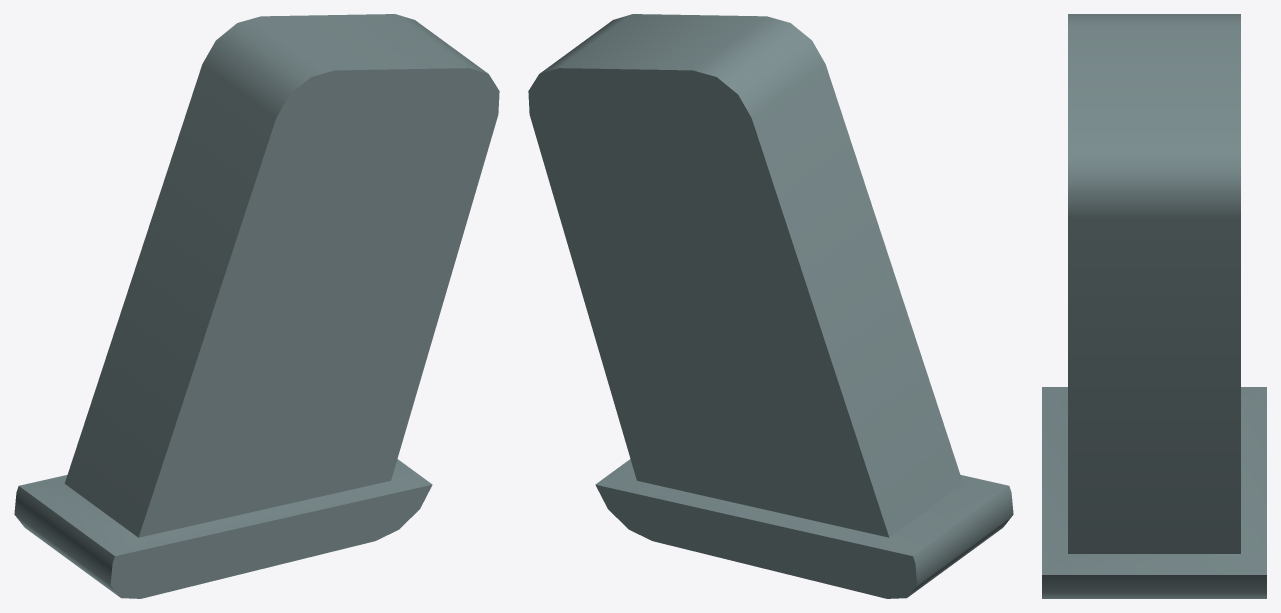
File: Clip.fbx
The picture shows the model from 3 angles, left to right: view 1: azimuth 30°, elevation 25°; view 2: azimuth 150°, elevation 25°; view 3: azimuth 270°, elevation 25°; orthographic projection. The views are drawn at different scales.
Visible parts, largest first — view 1: Clip; view 2: Clip; view 3: Clip.
Boxes of the visible parts, left/top/right/bottom form: Clip: left=14, top=14, right=499, bottom=598; Clip: left=528, top=14, right=1013, bottom=598; Clip: left=1042, top=14, right=1266, bottom=598.
Bounding box in the file's own units: 0.1779 × 0.1999 × 0.0741.
